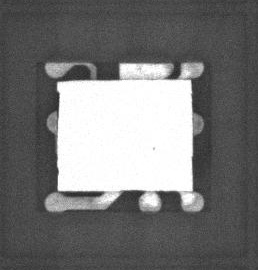DIE_INK: (151, 145, 157, 152)
